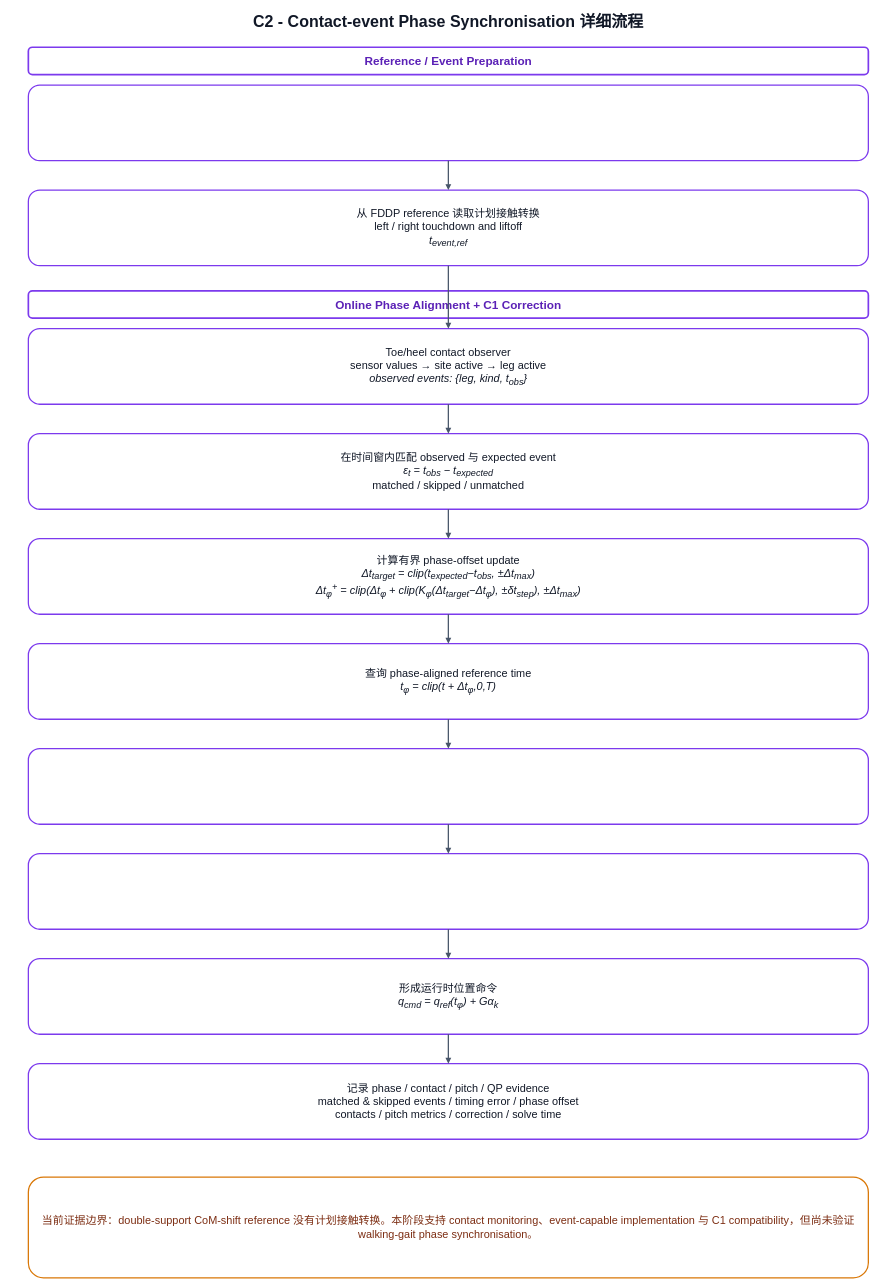
This 896x1286 diagram has some shape labels left out. The shapes that lost their labels are listed below. From the top down, each one's box as (x1, y1, x2, y2) in pixels, then its label:
(28, 84, 869, 161): 保留完整 C1 FIR-QP controller h, S, AR, q/r/slew, G pitch-recovery law 不变
(28, 748, 869, 825): 按相位时间插值名义参考 q nom = q ref (t φ ) θ ref = θ ref (t φ )
(28, 853, 869, 930): 运行未改变的 C1 FIR-QP correction e k → E free +SA → A * → α k
